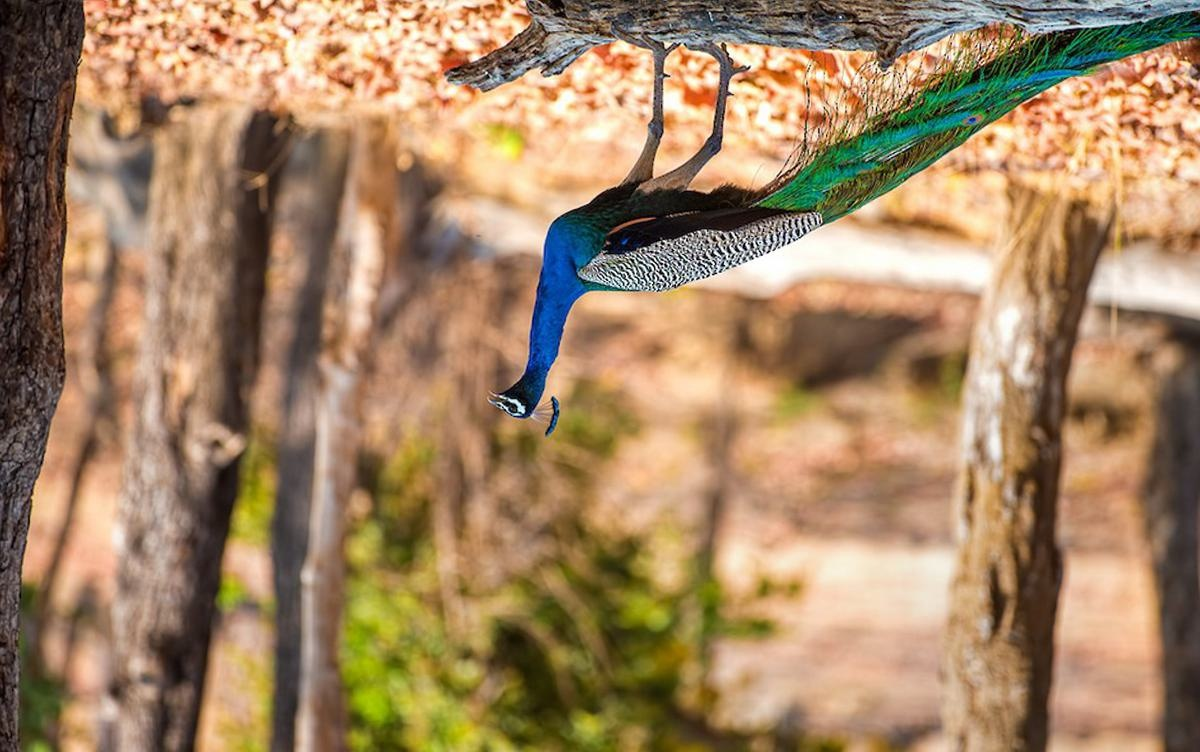peacock: (501, 87, 1011, 441)
